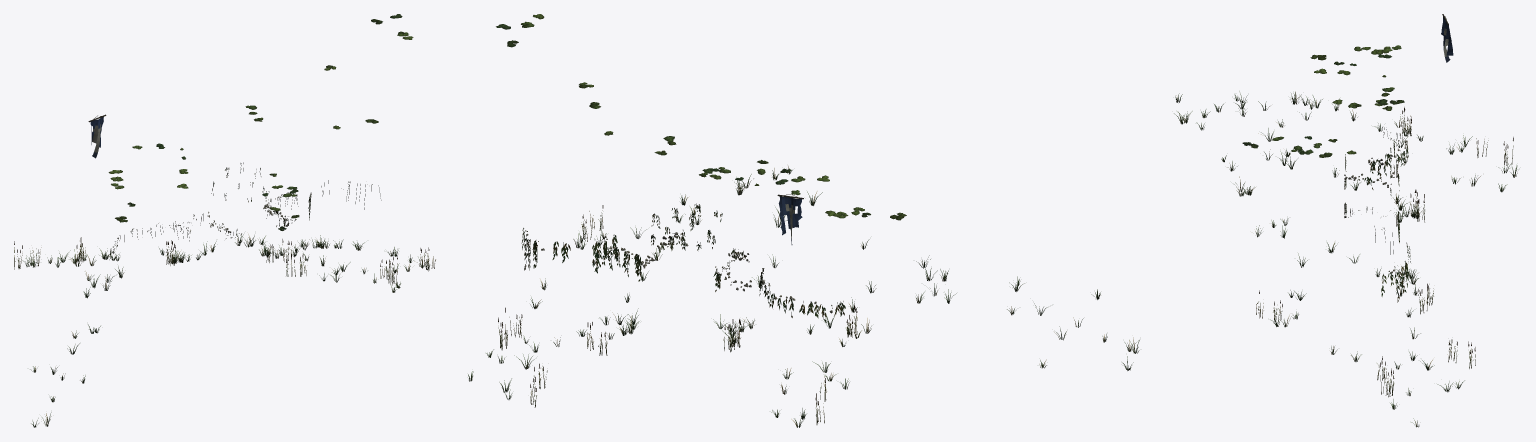
The model's file is sunken_bastion_entrance_growth.glb.
3 views of the same model, side by side, from view 1: azimuth 30°, elevation 25°; view 2: azimuth 150°, elevation 25°; view 3: azimuth 270°, elevation 25° (orthographic). The views are drawn at different scales.
Parts seen in each view (by area): view 1: Entrance_Growth; view 2: Entrance_Growth; view 3: Entrance_Growth.
Part boxes in pixels (x1,y1,x2,y2): Entrance_Growth: [14, 14, 435, 427]; Entrance_Growth: [468, 14, 1139, 427]; Entrance_Growth: [1174, 14, 1517, 427].
Bounding box in the file's own units: 34.89 × 20.94 × 20.78.
